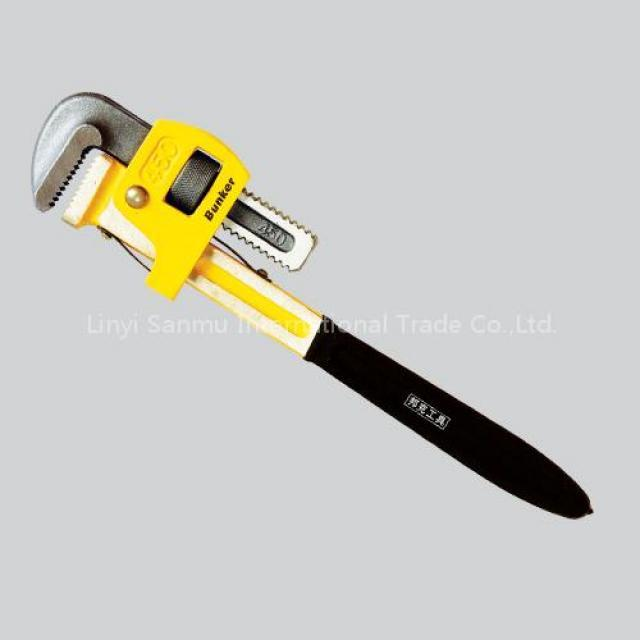wrench: (22, 85, 603, 534)
